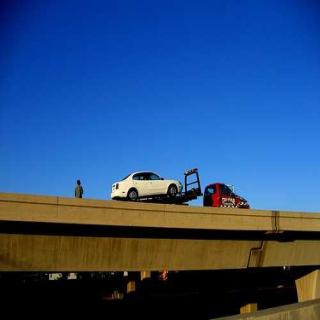Towing_truck: (179, 163, 250, 210)
